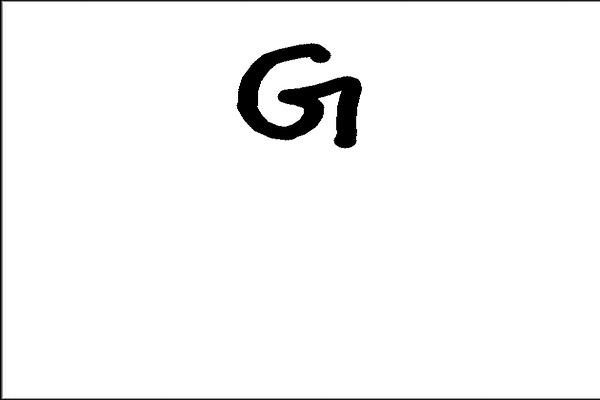G: (232, 35, 369, 152)
